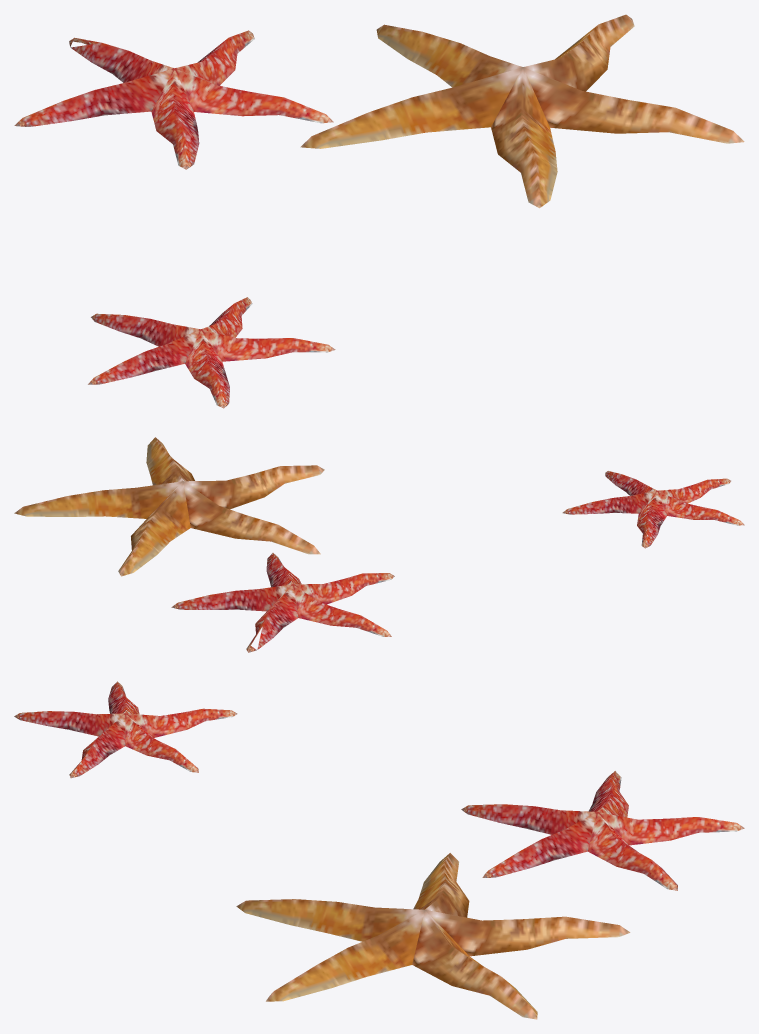
Rendered from S_Build_Sea029_A2.FBX.
3 views of the same model, one above another, from view 1: azimuth 30°, elevation 25°; view 2: azimuth 150°, elevation 25°; view 3: azimuth 270°, elevation 25° (orthographic). The views are drawn at different scales.
Parts seen in each view (by area): view 1: S_Build_Sea029_A2; view 2: S_Build_Sea029_A2; view 3: S_Build_Sea029_A2.
Boxes of the visible parts, x1,y1,x2,y2 form: S_Build_Sea029_A2: [14, 14, 744, 408]; S_Build_Sea029_A2: [14, 437, 744, 652]; S_Build_Sea029_A2: [14, 681, 744, 1019].
Size of the model in its own units: 210 by 10.41 by 193.
Materials: 1 (1 with a texture image).
